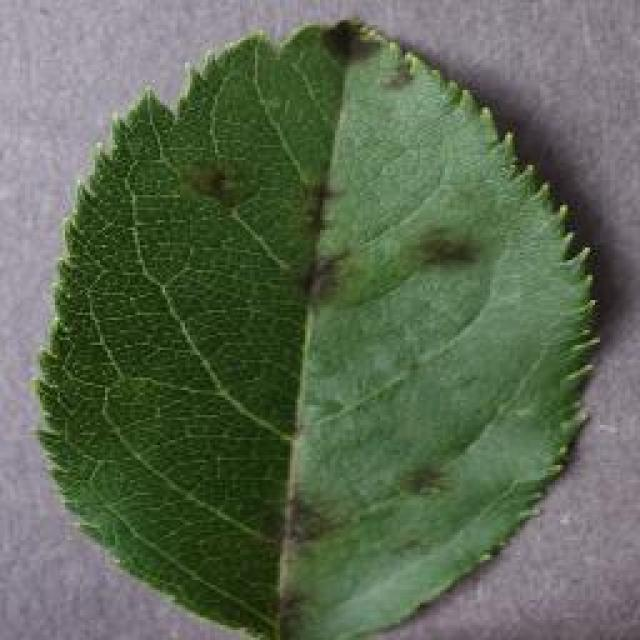apple scab disease: (30, 15, 602, 637)
